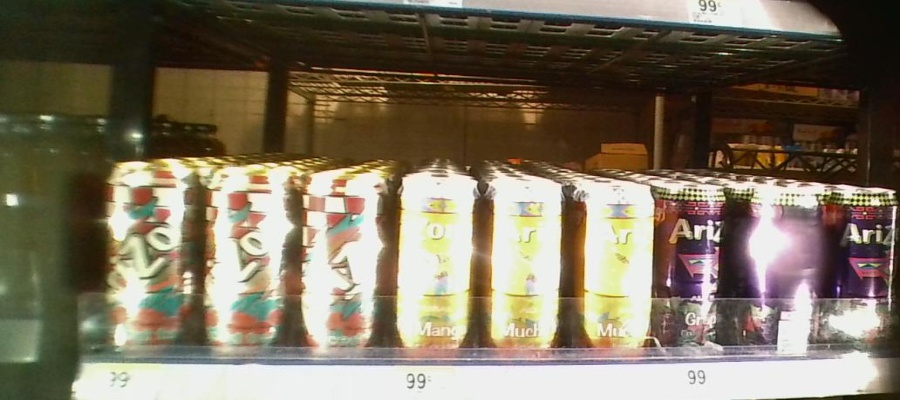bottle: (98, 153, 200, 357), (203, 157, 295, 362), (300, 160, 390, 361), (391, 161, 479, 365), (570, 174, 657, 366), (734, 177, 822, 354), (486, 170, 564, 360), (659, 175, 726, 367), (827, 177, 896, 361)
